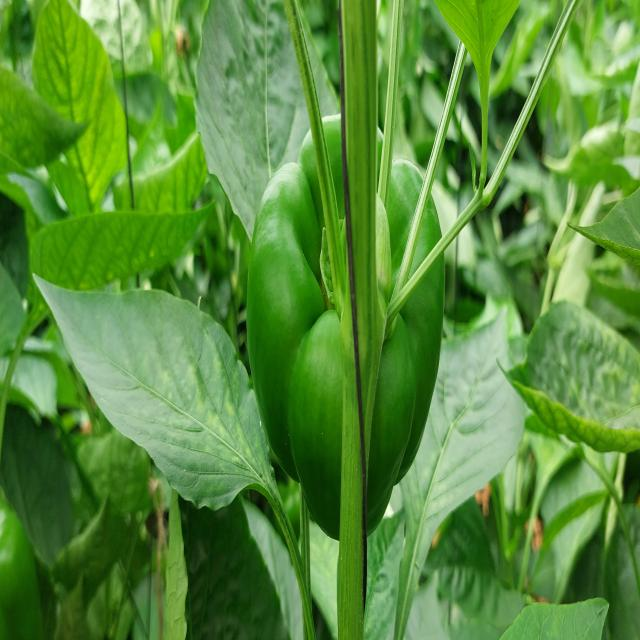Green--Not-ready-to-harvest: (241, 63, 466, 530)
